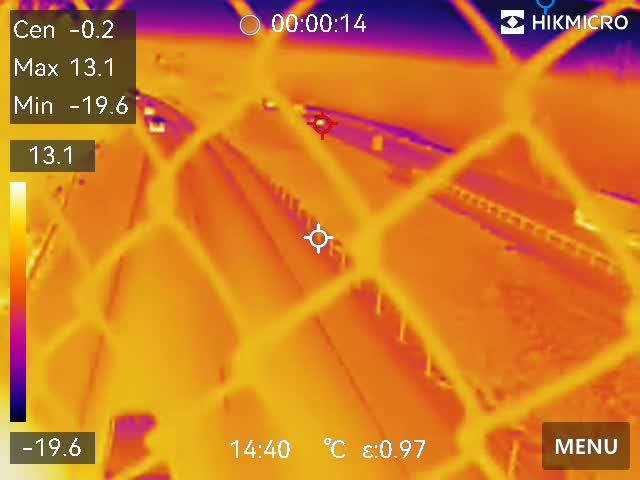vehicle: (146, 116, 169, 137), (141, 100, 157, 117)
